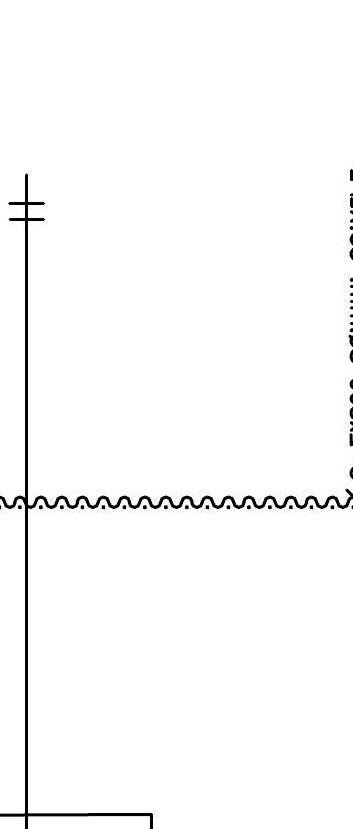115_buffer: (8, 202, 45, 221)
